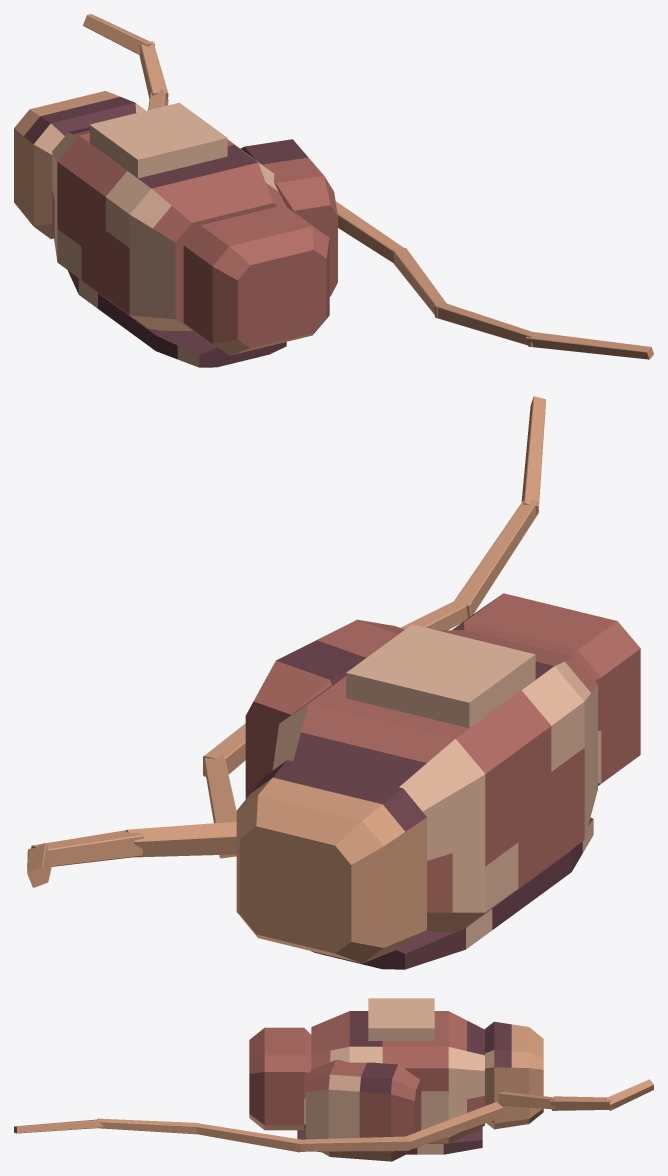
File: BodoSaltans.gltf
The picture shows the model from 3 angles, top to bottom: view 1: azimuth 30°, elevation 25°; view 2: azimuth 150°, elevation 25°; view 3: azimuth 270°, elevation 25°; orthographic projection. The views are drawn at different scales.
Visible parts, largest first — view 1: Root, Trailing4, Trailing3, Trailing1, Trailing2, Anterior2, Anterior1; view 2: Root, Anterior0, Trailing3, Anterior1, Trailing4, Trailing0, Trailing2, Trailing1, Anterior2; view 3: Root, Trailing0, Trailing1, Trailing2, Trailing3, Anterior1, Trailing4, Anterior0, Anterior2.
Boxes of the visible parts, bbox=[...] form: Root: bbox=[14, 91, 337, 367]; Trailing4: bbox=[526, 331, 653, 359]; Trailing3: bbox=[434, 303, 533, 346]; Trailing1: bbox=[335, 201, 403, 262]; Trailing2: bbox=[393, 248, 446, 318]; Anterior2: bbox=[83, 14, 154, 55]; Anterior1: bbox=[139, 41, 168, 100]; Root: bbox=[236, 593, 640, 969]; Anterior0: bbox=[125, 821, 236, 857]; Trailing3: bbox=[453, 499, 538, 617]; Anterior1: bbox=[31, 830, 143, 866]; Trailing4: bbox=[521, 396, 545, 514]; Trailing0: bbox=[204, 754, 236, 858]; Trailing2: bbox=[400, 601, 472, 630]; Trailing1: bbox=[203, 723, 245, 776]; Anterior2: bbox=[27, 843, 52, 887]; Root: bbox=[249, 998, 543, 1161]; Trailing0: bbox=[403, 1102, 502, 1149]; Trailing1: bbox=[296, 1136, 409, 1151]; Trailing2: bbox=[196, 1123, 302, 1152]; Trailing3: bbox=[97, 1118, 199, 1134]; Anterior1: bbox=[550, 1096, 611, 1110]; Trailing4: bbox=[14, 1119, 104, 1133]; Anterior0: bbox=[498, 1091, 555, 1109]; Anterior2: bbox=[605, 1079, 653, 1110].
Bounding box in the file's own units: 1.35 × 0.82 × 3.87.
Materials: 1 (1 with a texture image).
